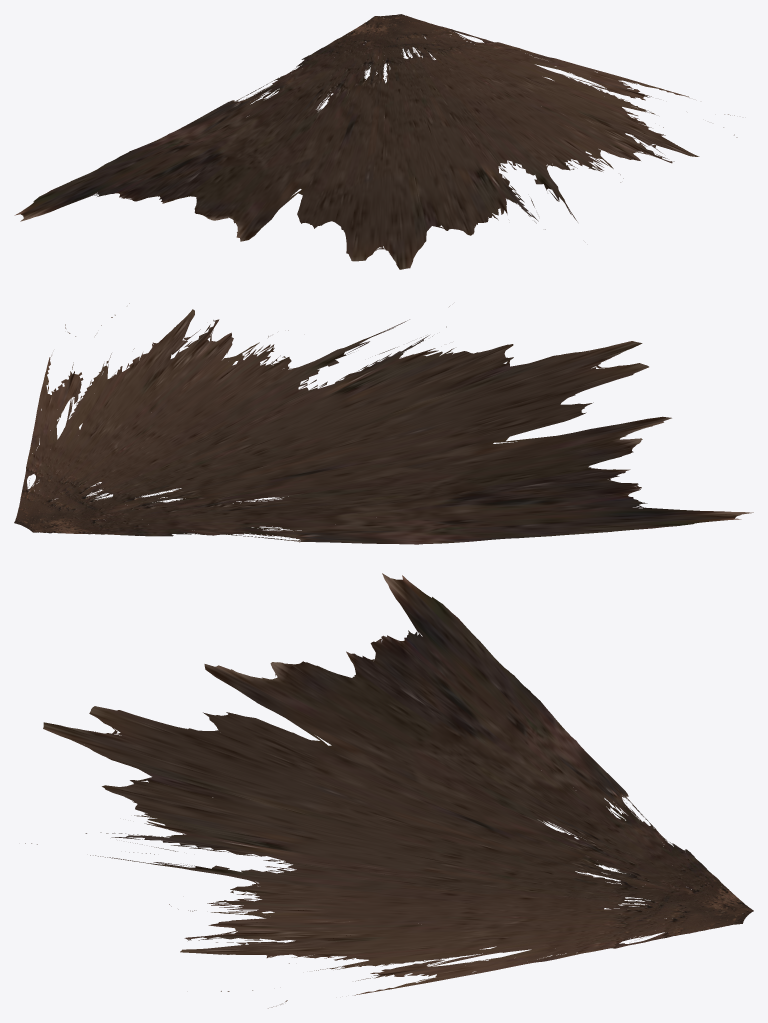
The model's file is sol9-navcam-full.glb.
3 renders of one model, top to bottom at view 1: azimuth 30°, elevation 25°; view 2: azimuth 150°, elevation 25°; view 3: azimuth 270°, elevation 25°, orthographic. The views are drawn at different scales.
Parts seen in each view (by area): view 1: Perseverance Sol 9 - Site 3; view 2: Perseverance Sol 9 - Site 3; view 3: Perseverance Sol 9 - Site 3.
Boxes of the visible parts, box(x1,y1,x2,y2) form: Perseverance Sol 9 - Site 3: box(14, 14, 737, 269); Perseverance Sol 9 - Site 3: box(14, 303, 753, 544); Perseverance Sol 9 - Site 3: box(25, 573, 753, 1008).
Bounding box in the file's own units: 106 × 4.54 × 82.03.
1 material, 1 textured.
